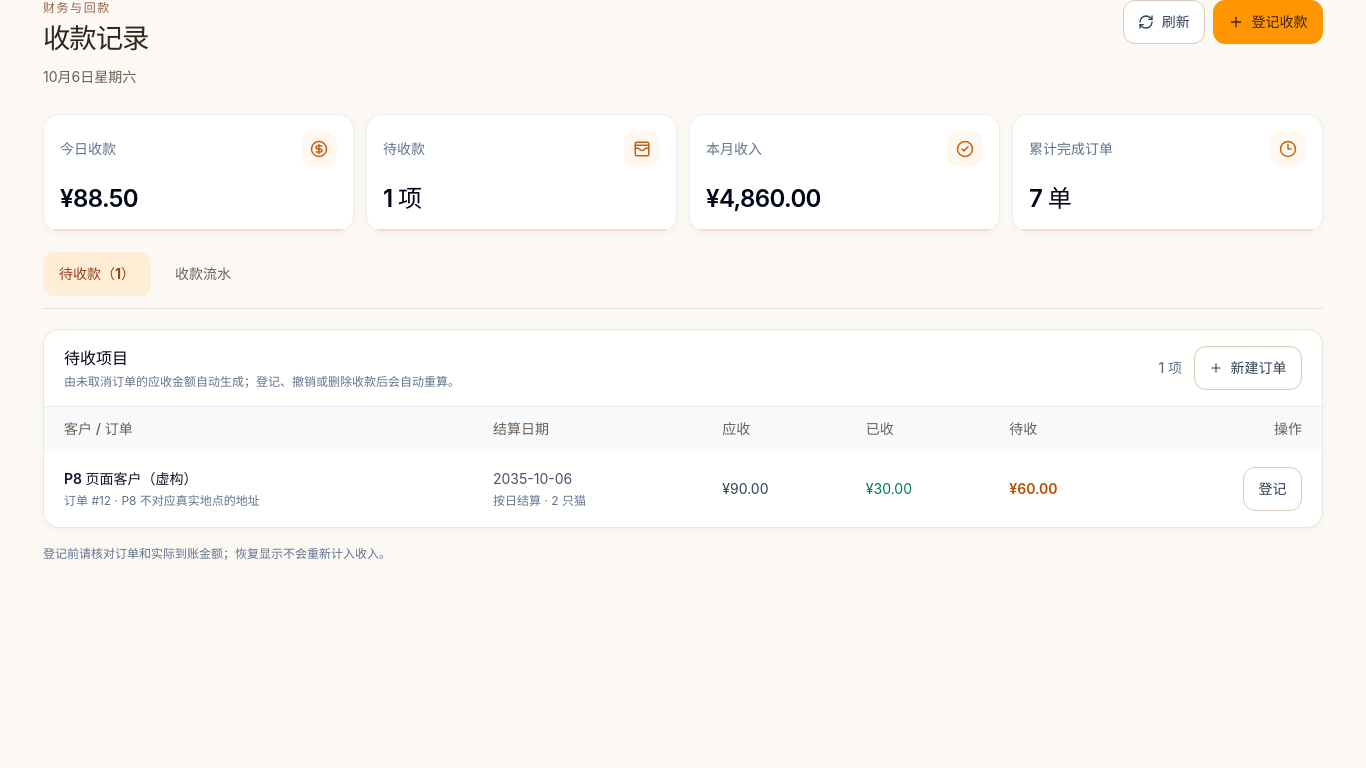
Test: requires a reason and confirms a soft void before refreshing
Expected: the heading "收款记录" is shown, x1=43 y1=23 x2=148 y2=55
Click the tab "收款流水": coordinates (203, 274) x1=159 y1=252 x2=247 y2=296
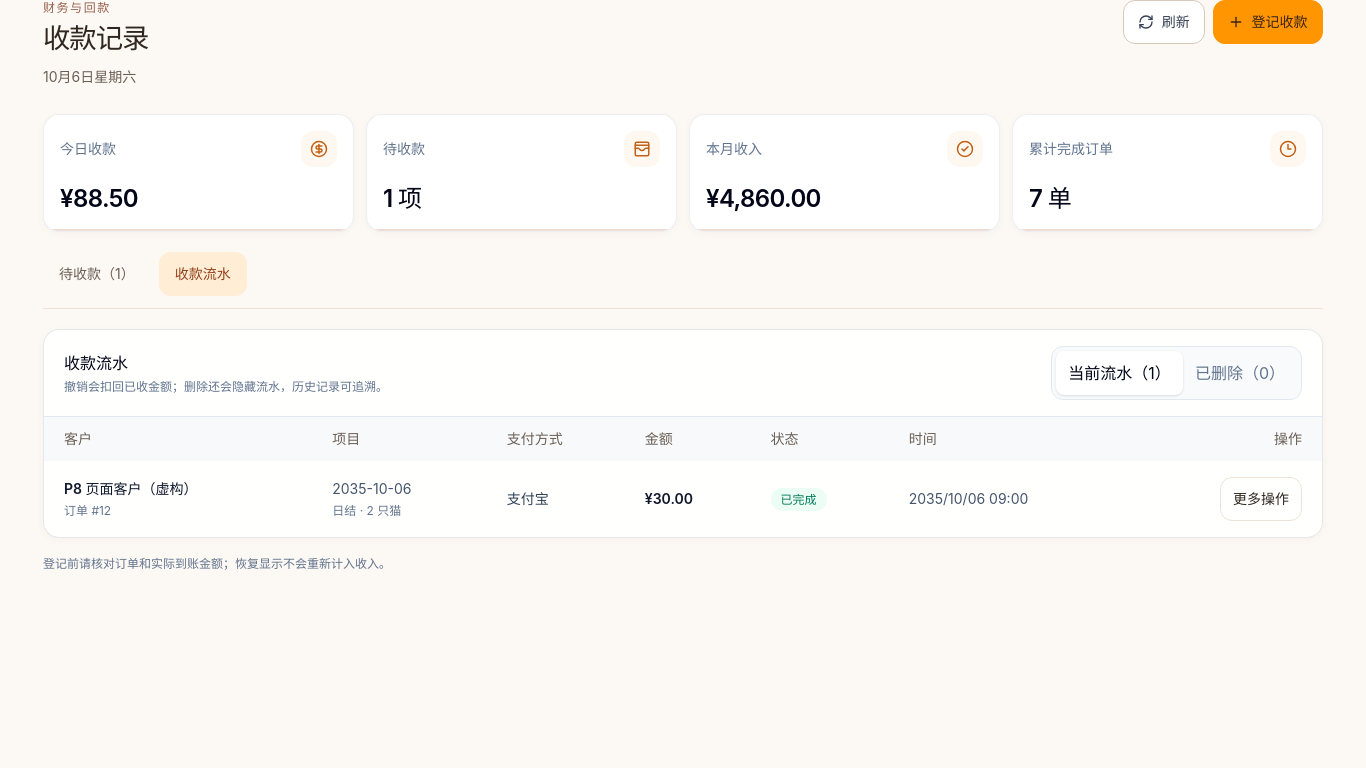
Click the heading "更多操作": coordinates (1261, 499) x1=1220 y1=477 x2=1302 y2=521
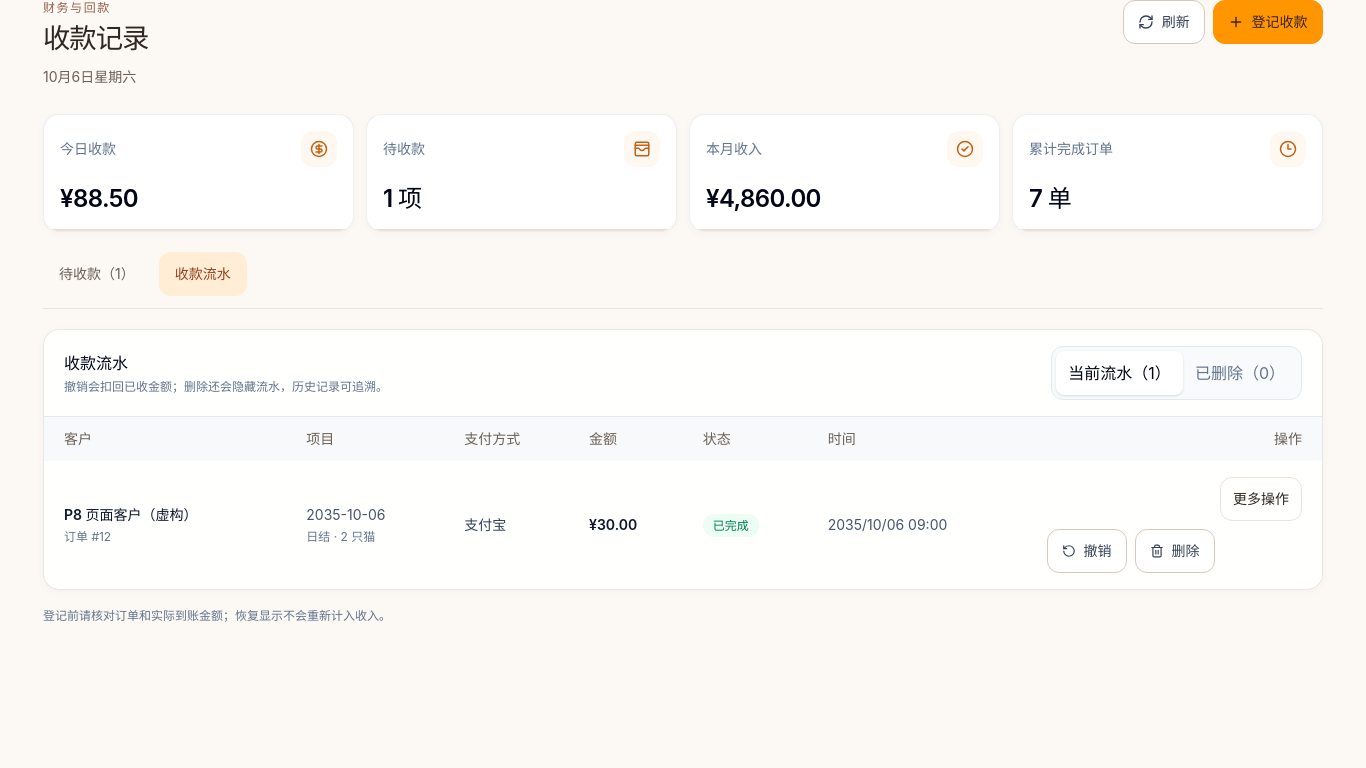
Click the button "撤销": coordinates (1087, 551) x1=1047 y1=529 x2=1127 y2=573
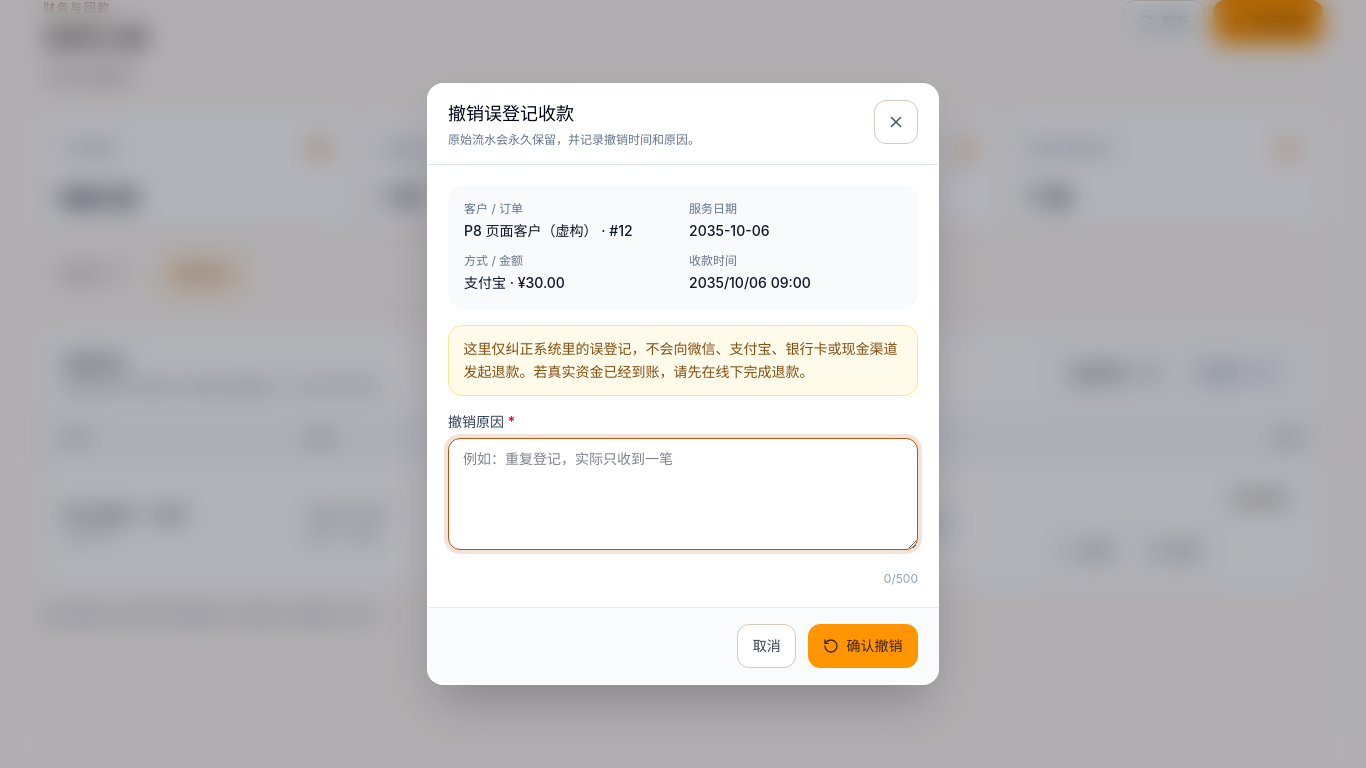
Result: the text "这里仅纠正系统里的误登记，不会向微信、支付宝、银行卡或现金渠道发起退款。若真实资金已经到账，请先在线下完成退款。" is shown at x1=448 y1=325 x2=918 y2=396
Click the button "确认撤销": coordinates (863, 646) x1=808 y1=624 x2=918 y2=668
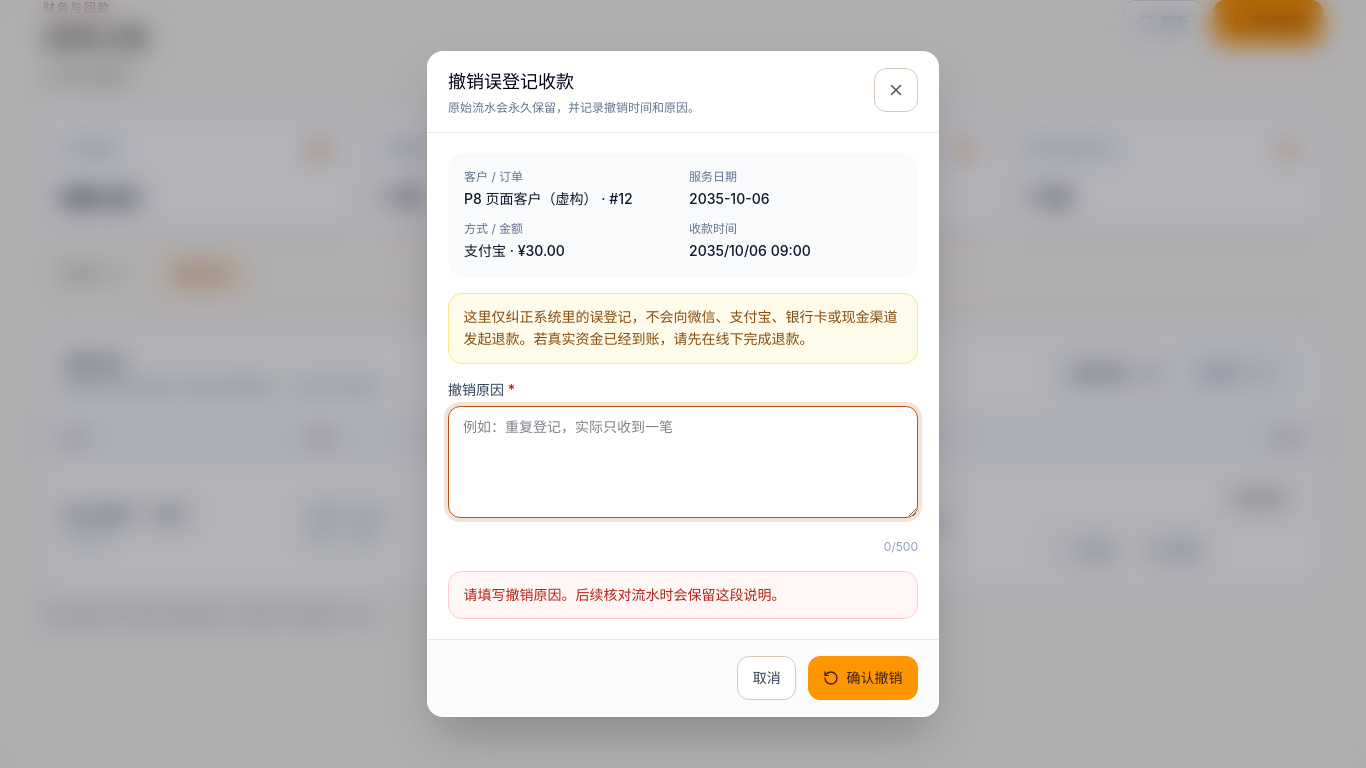
Result: the message shows "请填写撤销原因" at x1=463 y1=586 x2=785 y2=603
In the text box labelled "撤销原因 *": coordinates (683, 462) x1=448 y1=406 x2=918 y2=518, type "  重复登记  "
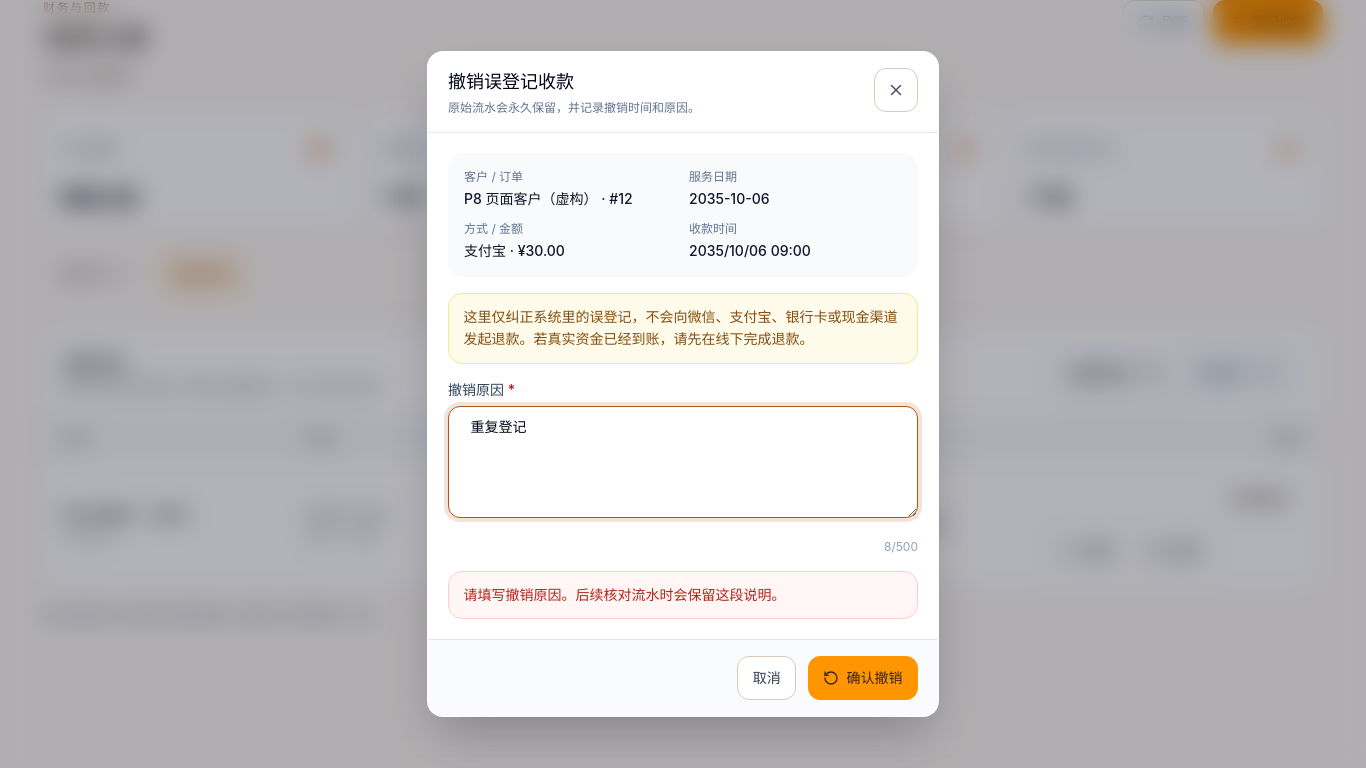
Click the button "确认撤销": coordinates (863, 678) x1=808 y1=656 x2=918 y2=700
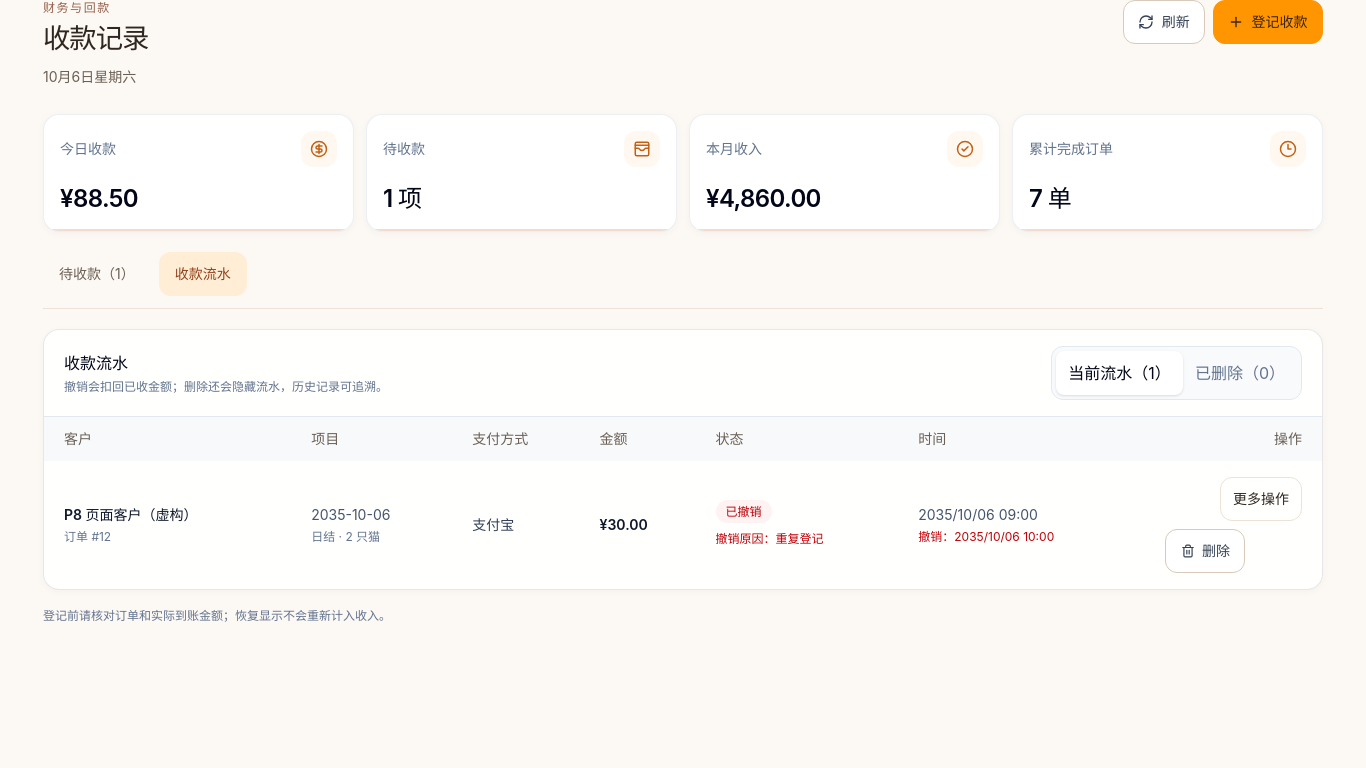
Result: the heading "撤销误登记收款" is gone
Result: the text "已撤销" is shown at x1=716 y1=500 x2=772 y2=523
Result: the text "撤销原因：重复登记" is shown at x1=716 y1=531 x2=824 y2=546
